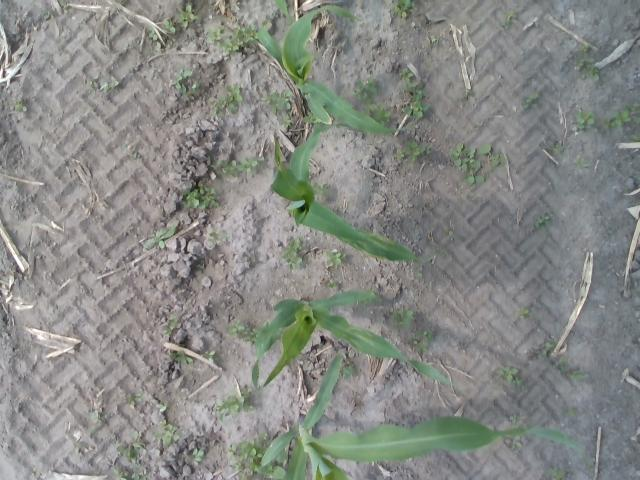Maize: (260, 355, 582, 480), (268, 123, 451, 260), (252, 290, 460, 390), (256, 5, 402, 133), (274, 0, 294, 22)
Weeds: (402, 93, 430, 120), (449, 142, 476, 170), (144, 228, 175, 249), (216, 396, 240, 421), (208, 96, 238, 116), (262, 90, 291, 110), (238, 438, 262, 461), (482, 144, 507, 166), (354, 76, 378, 98), (154, 424, 180, 444), (116, 442, 142, 460), (574, 110, 596, 130), (391, 0, 414, 19), (235, 25, 258, 44), (178, 5, 196, 28), (468, 162, 486, 184), (282, 252, 302, 270), (402, 142, 420, 162), (256, 466, 285, 478), (183, 189, 200, 209), (221, 159, 238, 177), (239, 157, 258, 173), (523, 92, 539, 110), (208, 232, 232, 244), (582, 64, 600, 80), (186, 450, 204, 466), (218, 39, 238, 53), (362, 97, 378, 114), (225, 84, 242, 100), (162, 316, 177, 334), (612, 111, 630, 126), (498, 367, 518, 380), (242, 326, 258, 342), (406, 80, 424, 94), (207, 28, 224, 42), (174, 350, 192, 363), (229, 386, 252, 396), (326, 251, 342, 265), (313, 182, 329, 196), (239, 396, 253, 412), (376, 107, 390, 123), (202, 194, 220, 206), (114, 466, 129, 480), (550, 466, 566, 479), (121, 146, 138, 158), (100, 82, 120, 92), (180, 87, 194, 101), (506, 436, 522, 448), (399, 310, 414, 322), (164, 17, 176, 32), (226, 444, 237, 460), (230, 320, 243, 333), (400, 69, 414, 81), (515, 307, 529, 319), (534, 214, 548, 226), (574, 156, 588, 168), (202, 351, 216, 363), (170, 77, 184, 89), (280, 112, 290, 128), (132, 470, 148, 480), (541, 342, 554, 354), (289, 240, 302, 252), (13, 100, 26, 112), (156, 401, 170, 412), (413, 342, 428, 352), (192, 78, 205, 89), (127, 394, 137, 408), (420, 142, 432, 153), (395, 310, 403, 326), (579, 53, 593, 62), (200, 182, 210, 194), (90, 410, 100, 422), (89, 75, 99, 87), (572, 371, 586, 379), (178, 70, 192, 78), (630, 103, 640, 114), (510, 415, 521, 425), (246, 460, 256, 470), (631, 130, 640, 141), (568, 408, 580, 416), (603, 117, 610, 130), (424, 331, 434, 340), (444, 226, 454, 235), (554, 144, 564, 153), (61, 4, 70, 14), (515, 378, 526, 386), (573, 62, 584, 70), (150, 30, 158, 41), (506, 12, 516, 20), (556, 358, 566, 366), (414, 268, 424, 276), (134, 431, 142, 440), (328, 278, 335, 288), (196, 260, 204, 268), (235, 462, 243, 470), (44, 11, 52, 19), (633, 116, 640, 124), (260, 433, 268, 439), (540, 225, 548, 231), (581, 45, 589, 51), (156, 42, 162, 49), (210, 188, 216, 194), (341, 254, 346, 260)
